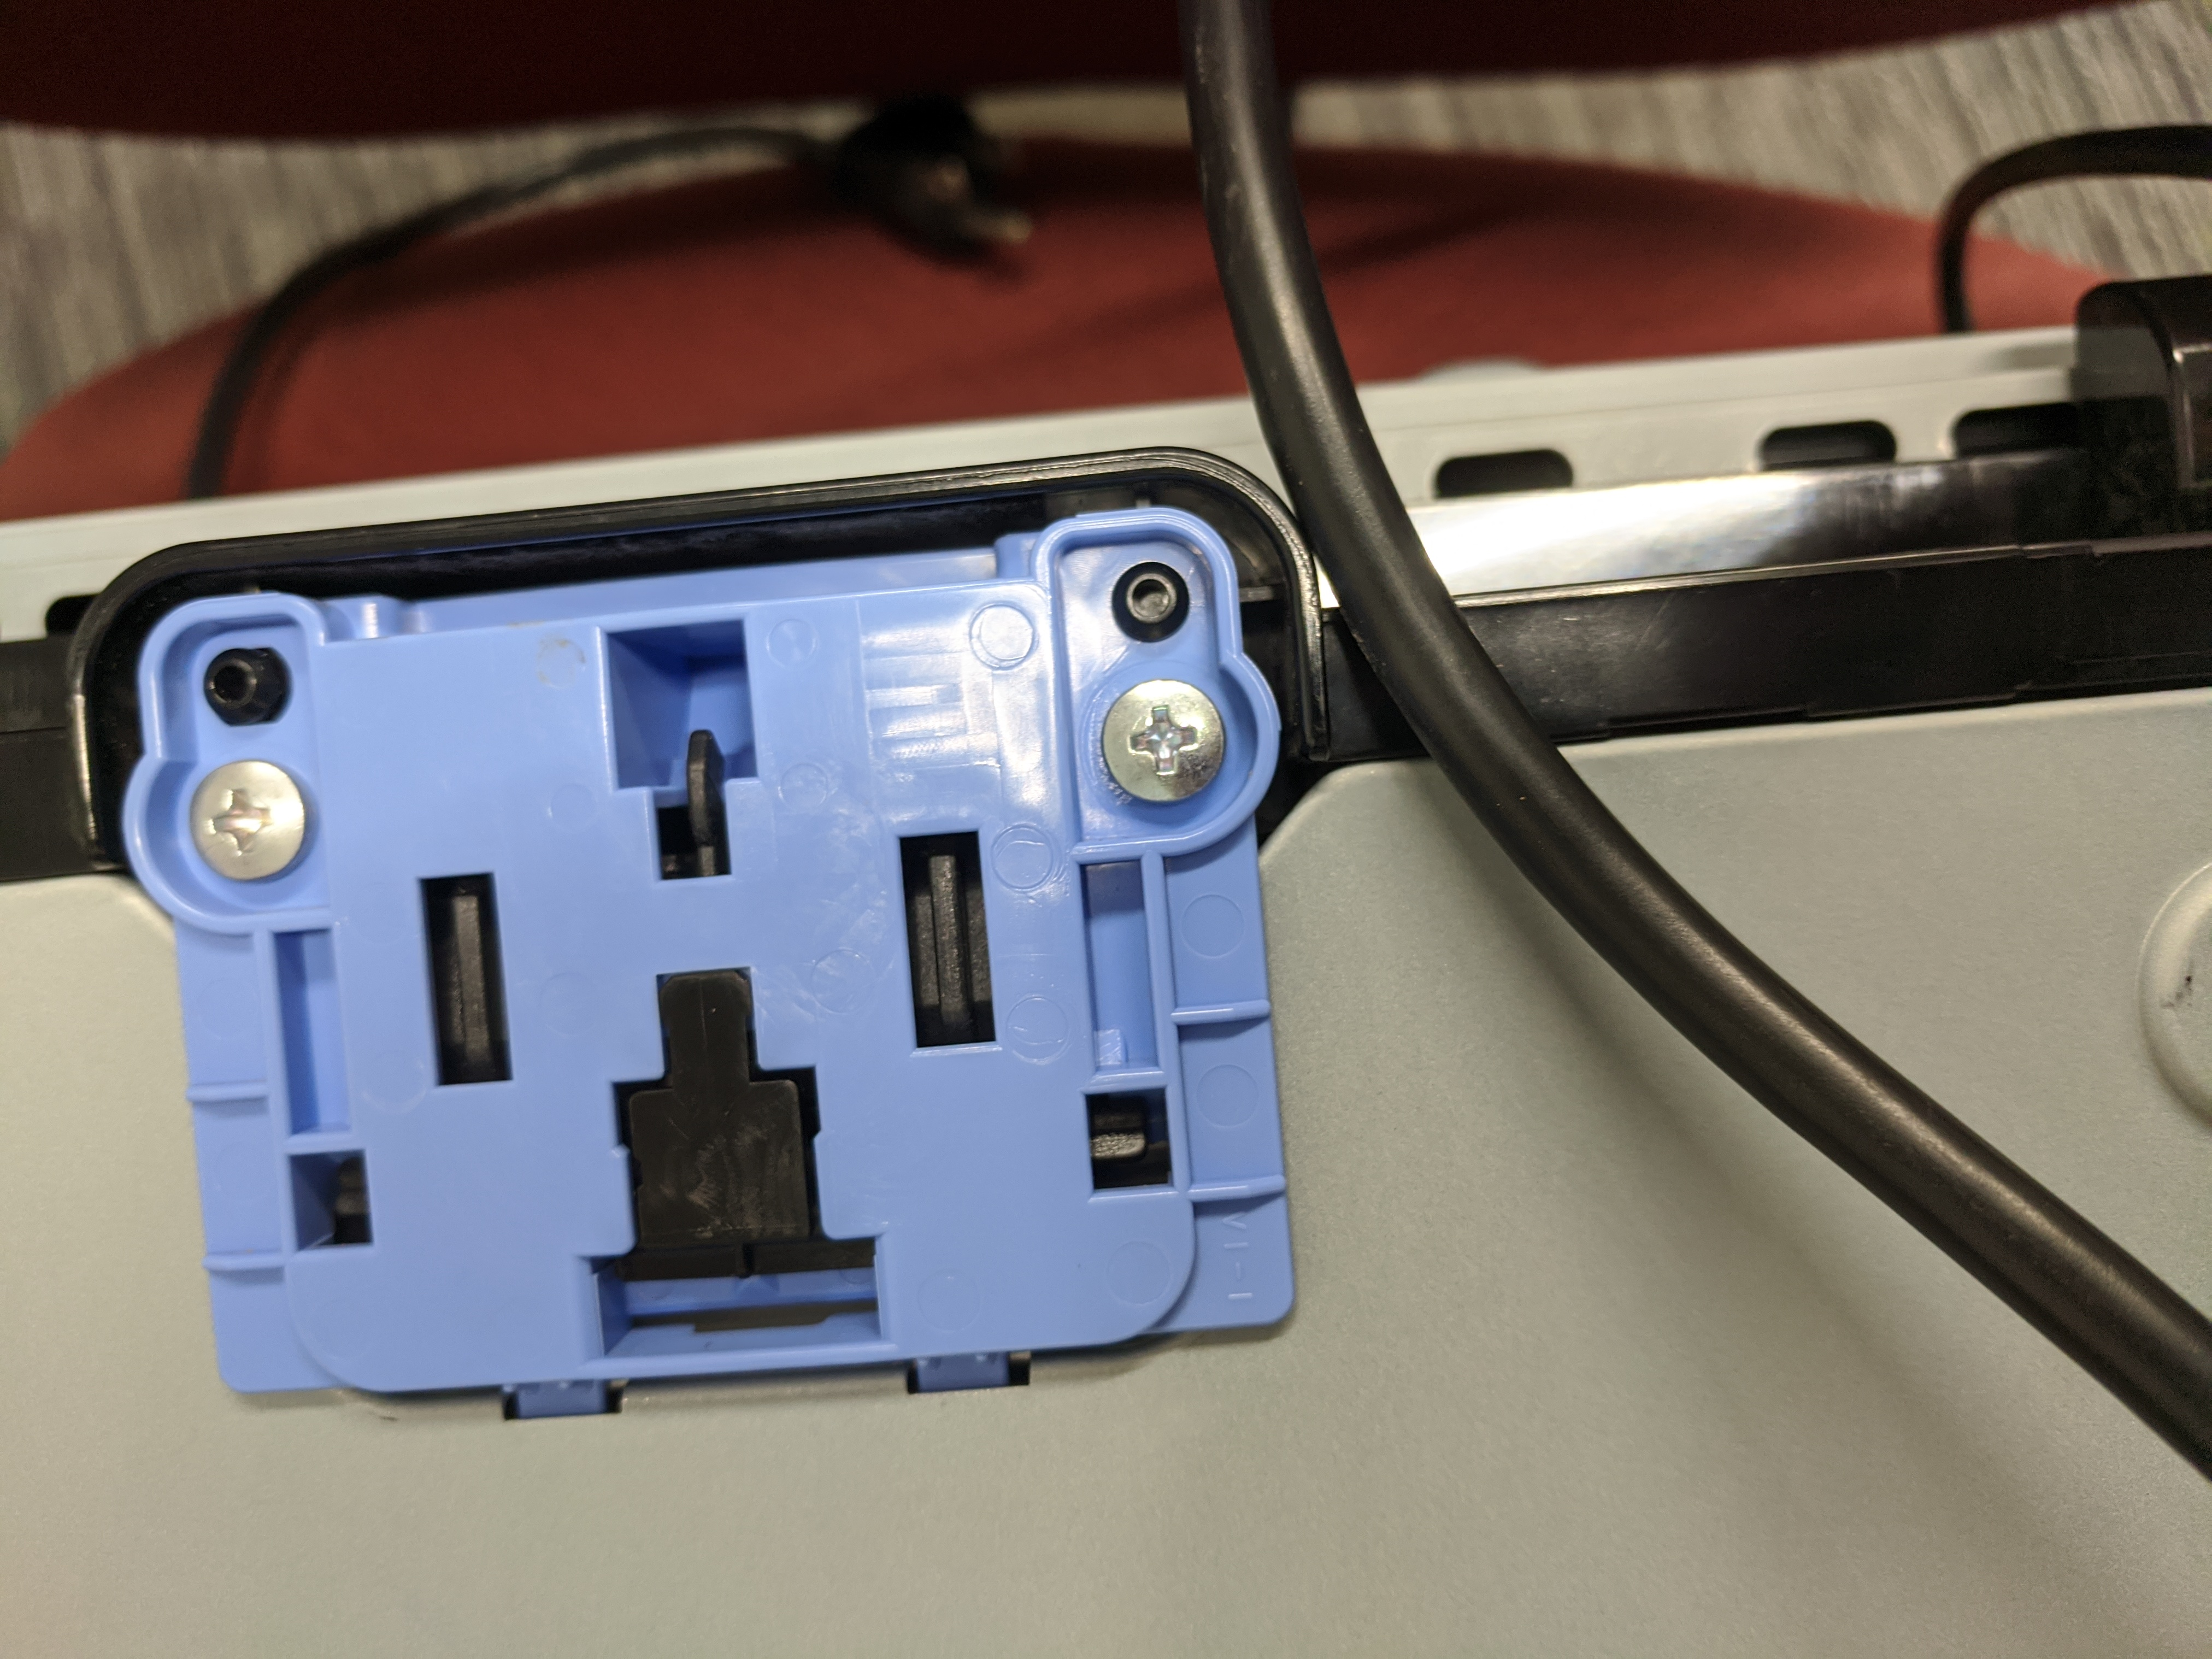cross_recessed_screw: (179, 748, 315, 889), (1099, 674, 1230, 802)
